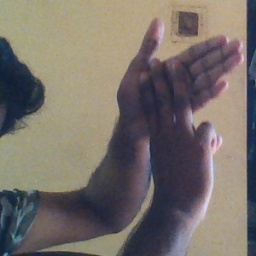M: (110, 13, 248, 185)
